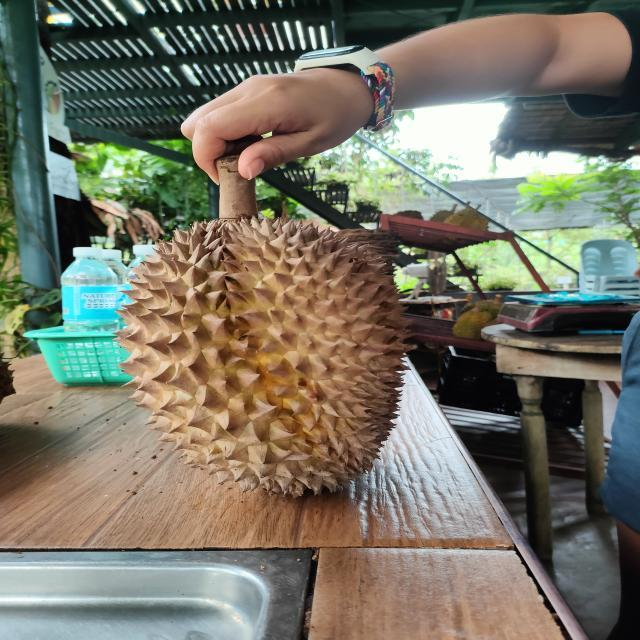mature: (118, 218, 407, 496)
